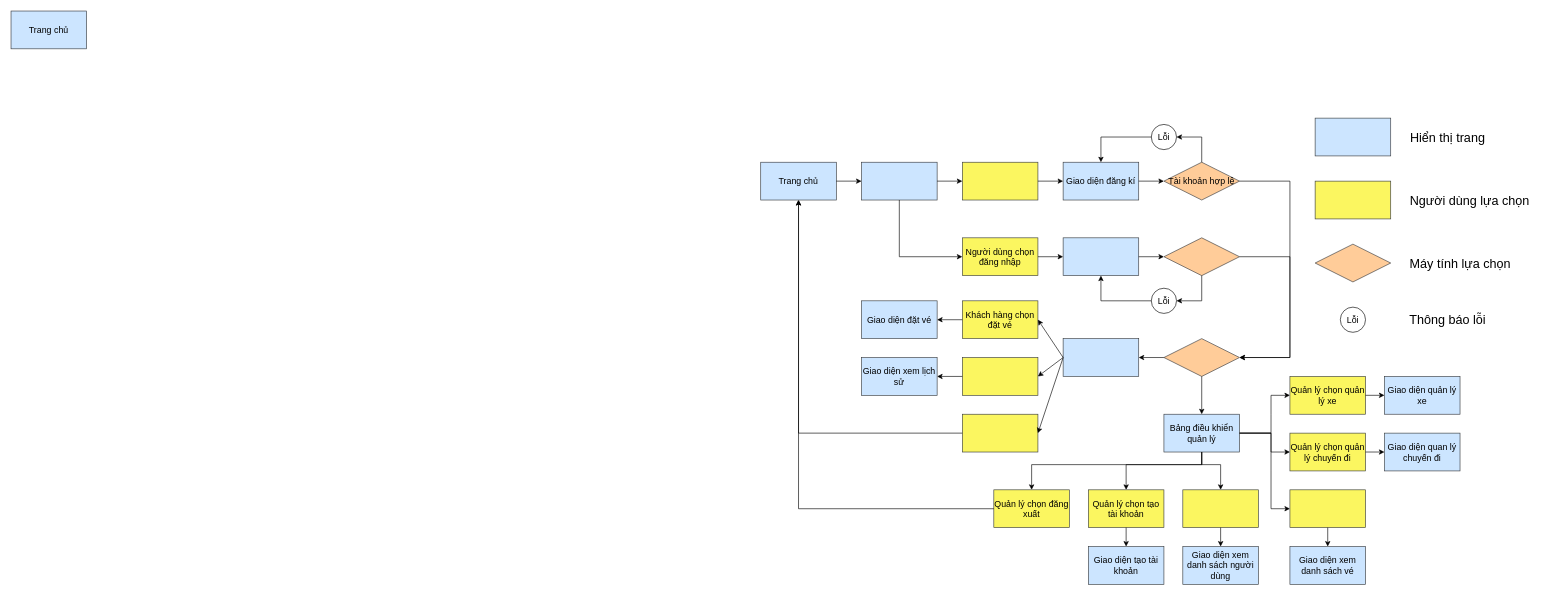
Some shapes in this 1547 by 595 pixel diagram are drawn without their labels. Here are the shapes that lost their labels. From the top down, the centre of each, then its label:
the point at 899,181: Đăng ký/ Đăng nhập
the point at 1000,181: Người dùng chọn đăng ký
the point at 1100,256: Giao diện đăng nhập
the point at 1201,256: Xác thực
the point at 1000,376: Khách hàng chọn xem lịch sử đặt vé
the point at 1100,357: Bảng điều khiển khách hàng
the point at 1201,357: Xác định vai trò
the point at 1000,433: Khách hàng chọn đăng xuất
the point at 1220,508: Quản lý chọn xem danh sách người dùng
the point at 1327,508: Quản lý chọn xem danh sách vé
